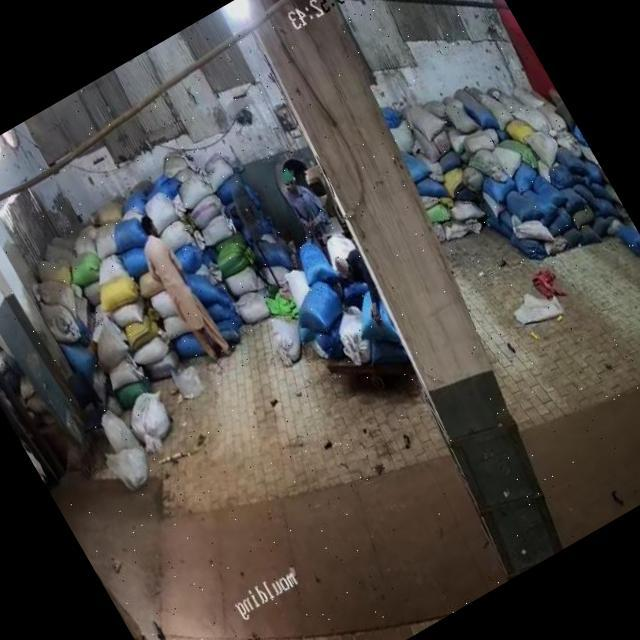person: (120, 204, 235, 368)
